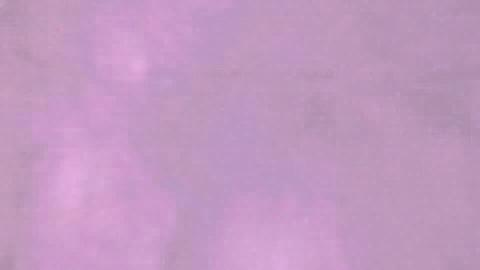tomato: (215, 127, 415, 268), (415, 136, 478, 268)
